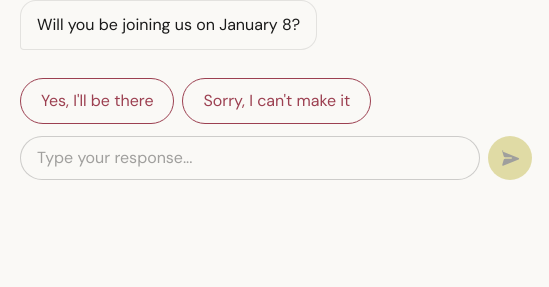
Scenario: RSVPChat › keeps the free-text input available after a single unrecognized reply (bug #6)
The width and height of the screenshot is (549, 287).
Type "hmm" into the field named "RSVP response" at (250, 158), box [20,136,480,180]
Then press Enter
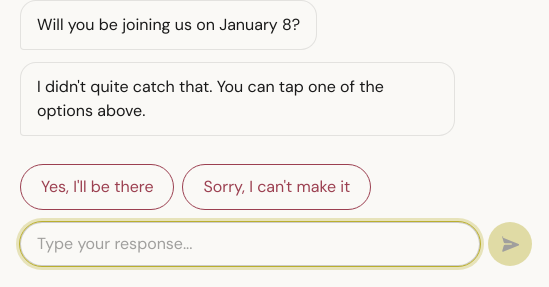
Check: the field named "RSVP response" is shown, box [20,222,480,266]
Check: the text "I didn't quite catch that" is shown, box [37,76,384,121]
